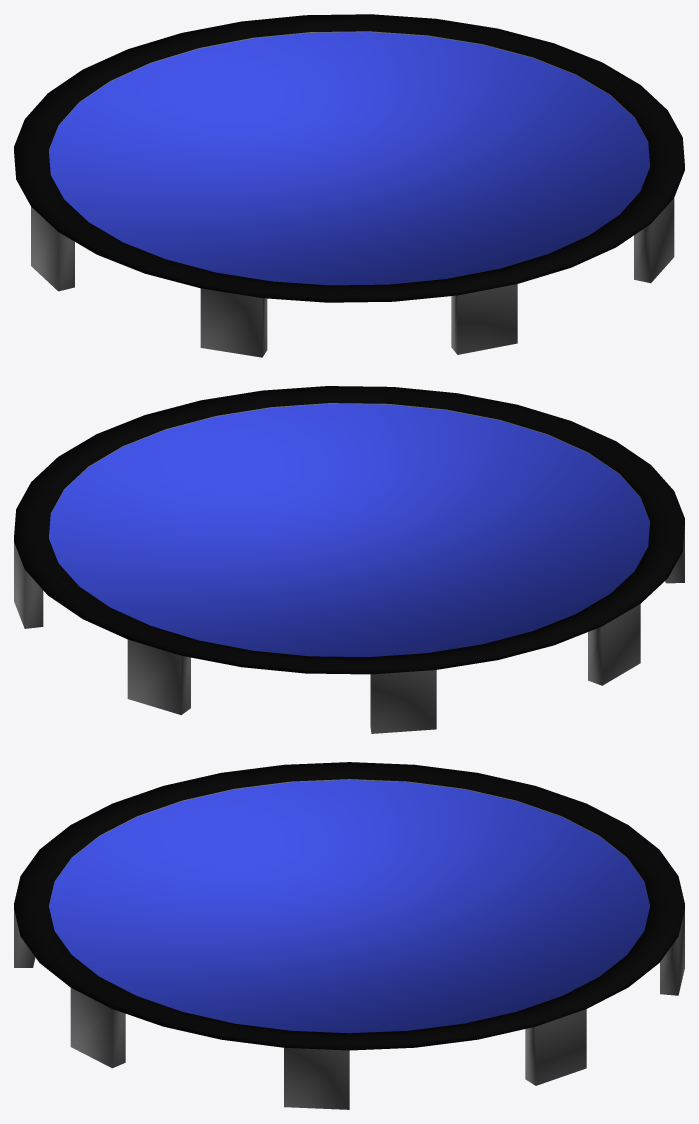
Rendered from Trampoline.fbx.
3 views of the same model, one above another, from view 1: azimuth 30°, elevation 25°; view 2: azimuth 150°, elevation 25°; view 3: azimuth 270°, elevation 25° (orthographic).
Visible parts, largest first — view 1: Cylinder; view 2: Cylinder; view 3: Cylinder.
Part boxes in pixels (x1,y1,x2,y2): Cylinder: (14,14,684,357); Cylinder: (14,386,684,733); Cylinder: (14,762,684,1109).
Bounding box in the file's own units: 406 × 42.91 × 406.
